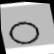no answer: (6, 17, 44, 48)
